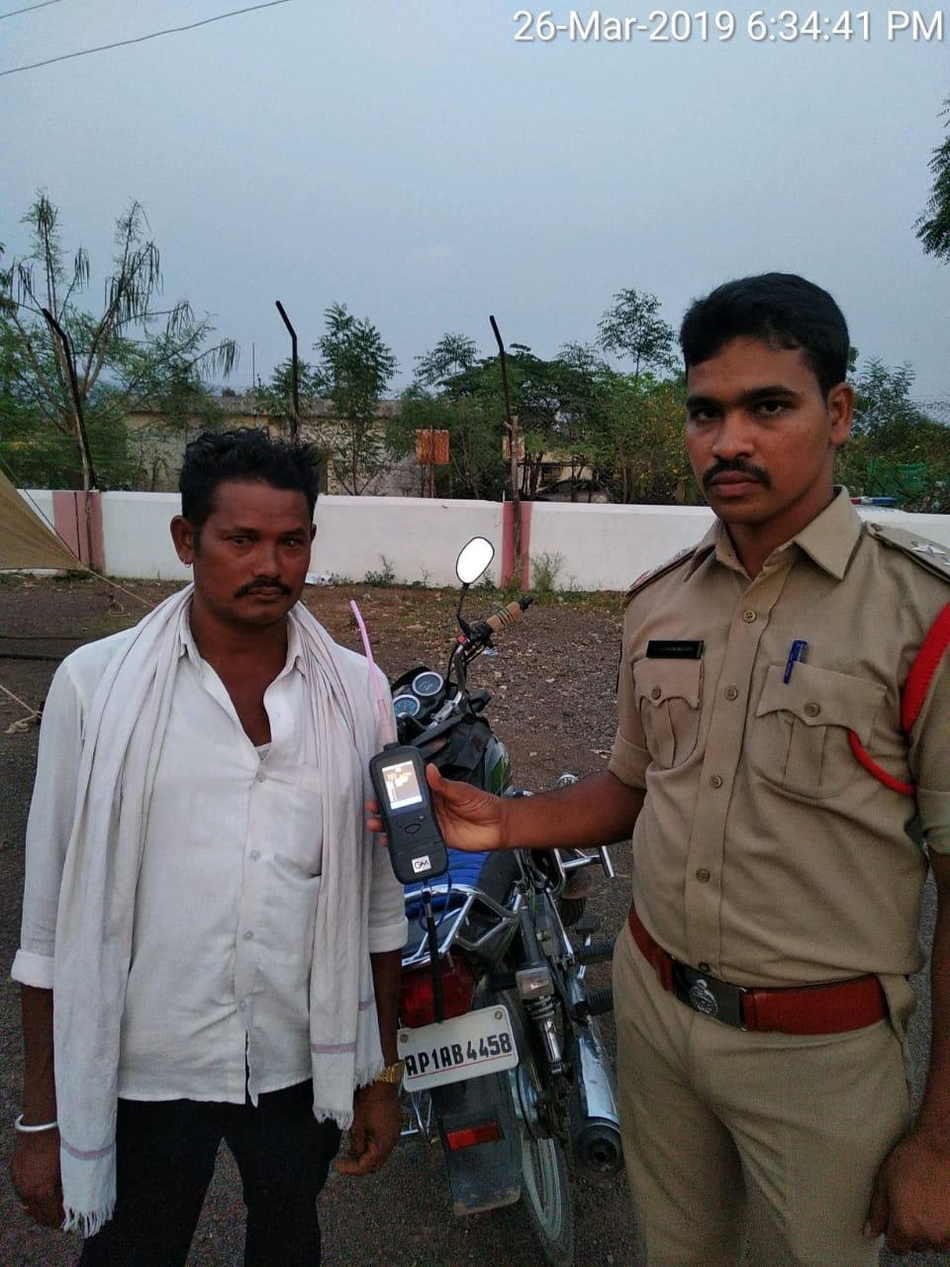plate: (378, 997, 538, 1110)
